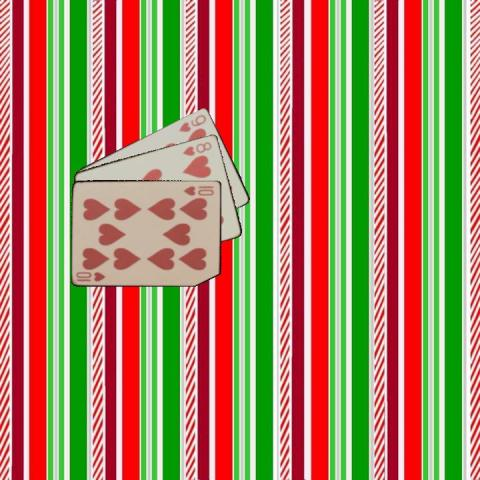10h: (181, 182, 215, 196), (73, 269, 107, 282)
8h: (180, 139, 214, 157)
9h: (176, 111, 207, 133)
